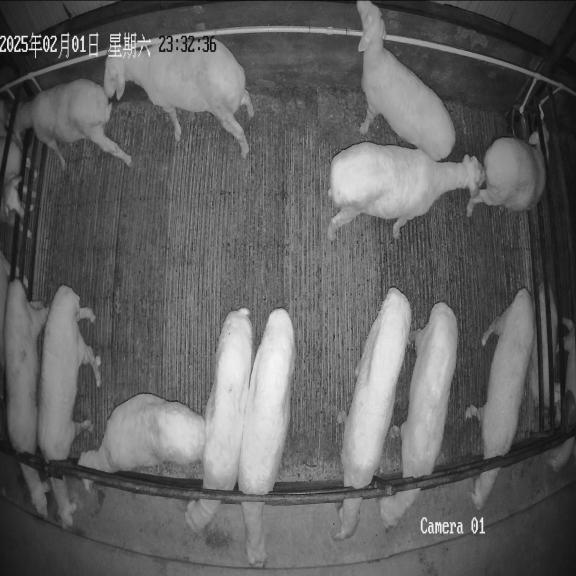drinking: (14, 79, 131, 167), (467, 123, 549, 215)
eating: (334, 288, 411, 540), (379, 302, 458, 529), (37, 285, 101, 528), (465, 288, 534, 509), (185, 308, 253, 532), (238, 308, 295, 566), (5, 279, 49, 517)
stand: (104, 35, 254, 158), (357, 0, 455, 161), (327, 142, 485, 240), (79, 393, 205, 473)
